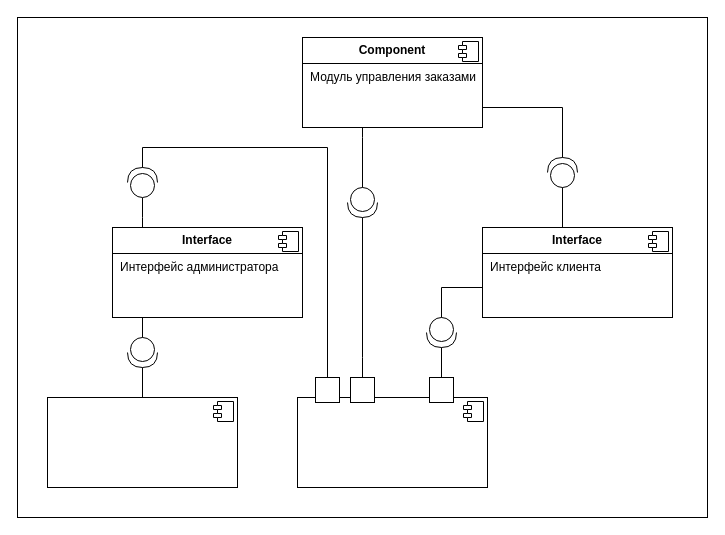
Image size: 725x535. Some labels were removed from this diagram. Here are the shapes that lost their labels. From the top down, the centre of each, then its label:
the point at 142,442: Component Модуль формирования отчетов
the point at 392,442: Component База данных
